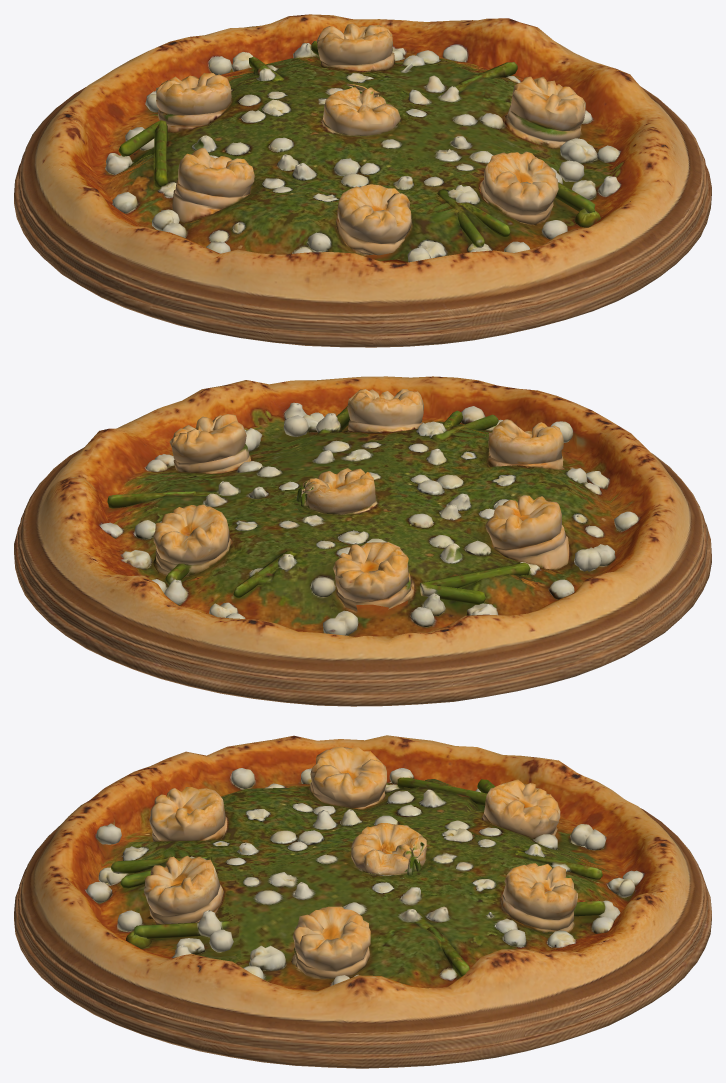
The model's file is pizza_fra_diavolo.fbx.
3 renders of one model, top to bottom at view 1: azimuth 30°, elevation 25°; view 2: azimuth 150°, elevation 25°; view 3: azimuth 270°, elevation 25°, orthographic.
Visible parts, largest first — view 1: meshes[0]; view 2: meshes[0]; view 3: meshes[0].
Part boxes in pixels (bbox=[...]): meshes[0]: bbox=[14, 14, 711, 347]; meshes[0]: bbox=[14, 376, 711, 706]; meshes[0]: bbox=[14, 735, 711, 1068].
Bounding box in the file's own units: 99.8 × 15.04 × 99.8.
1 material, 1 textured.
